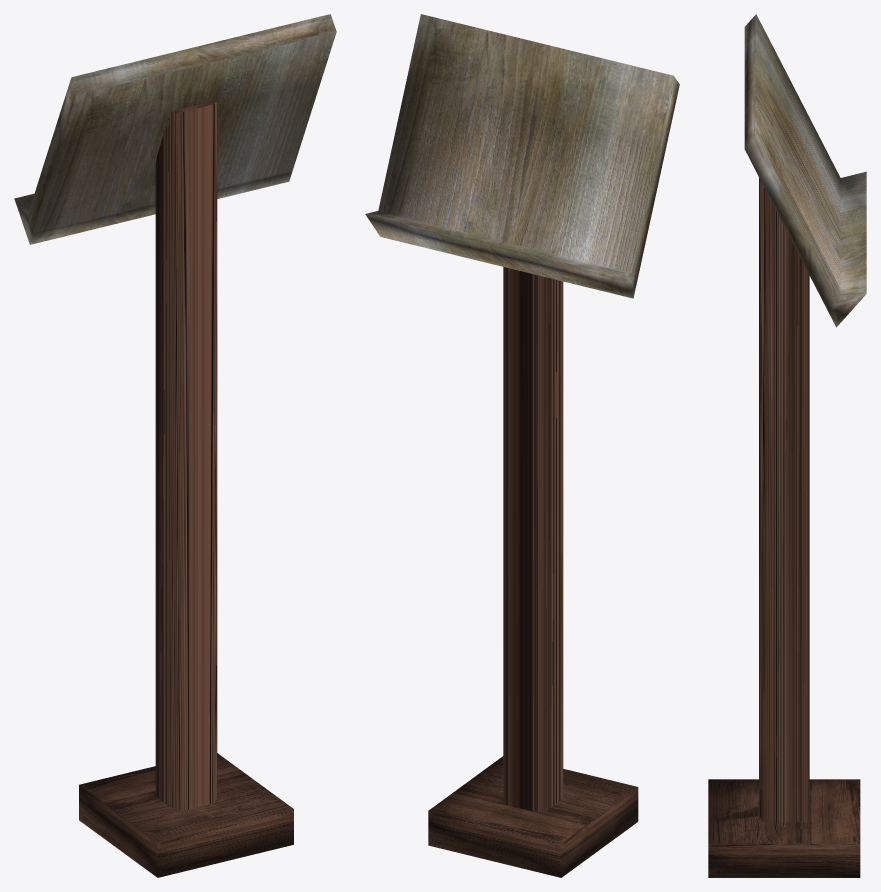
File: lectern_02.fbx
3 views of the same model, side by side, from view 1: azimuth 30°, elevation 25°; view 2: azimuth 150°, elevation 25°; view 3: azimuth 270°, elevation 25° (orthographic). The views are drawn at different scales.
Visible parts, largest first — view 1: node_c621a7e6_beee_4527_86da_552a3824b2f5_mesh0, node_2a0bd8bc_0c50_4315_b410_46ceee4e37c6_mesh0; view 2: node_2a0bd8bc_0c50_4315_b410_46ceee4e37c6_mesh0, node_c621a7e6_beee_4527_86da_552a3824b2f5_mesh0; view 3: node_c621a7e6_beee_4527_86da_552a3824b2f5_mesh0, node_2a0bd8bc_0c50_4315_b410_46ceee4e37c6_mesh0.
Part boxes in pixels (<box>): node_c621a7e6_beee_4527_86da_552a3824b2f5_mesh0: <box>79,100,293,877</box>; node_2a0bd8bc_0c50_4315_b410_46ceee4e37c6_mesh0: <box>14,14,336,244</box>; node_2a0bd8bc_0c50_4315_b410_46ceee4e37c6_mesh0: <box>365,14,679,298</box>; node_c621a7e6_beee_4527_86da_552a3824b2f5_mesh0: <box>428,267,638,877</box>; node_c621a7e6_beee_4527_86da_552a3824b2f5_mesh0: <box>708,177,860,877</box>; node_2a0bd8bc_0c50_4315_b410_46ceee4e37c6_mesh0: <box>744,14,866,327</box>.
Size of the model in its own units: 3806 by 11186 by 2084.
2 materials, 2 textured.
